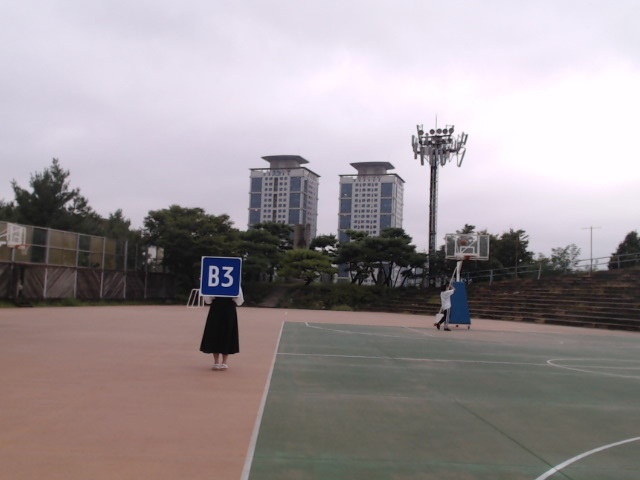delivery_b3: (201, 256, 242, 296)
